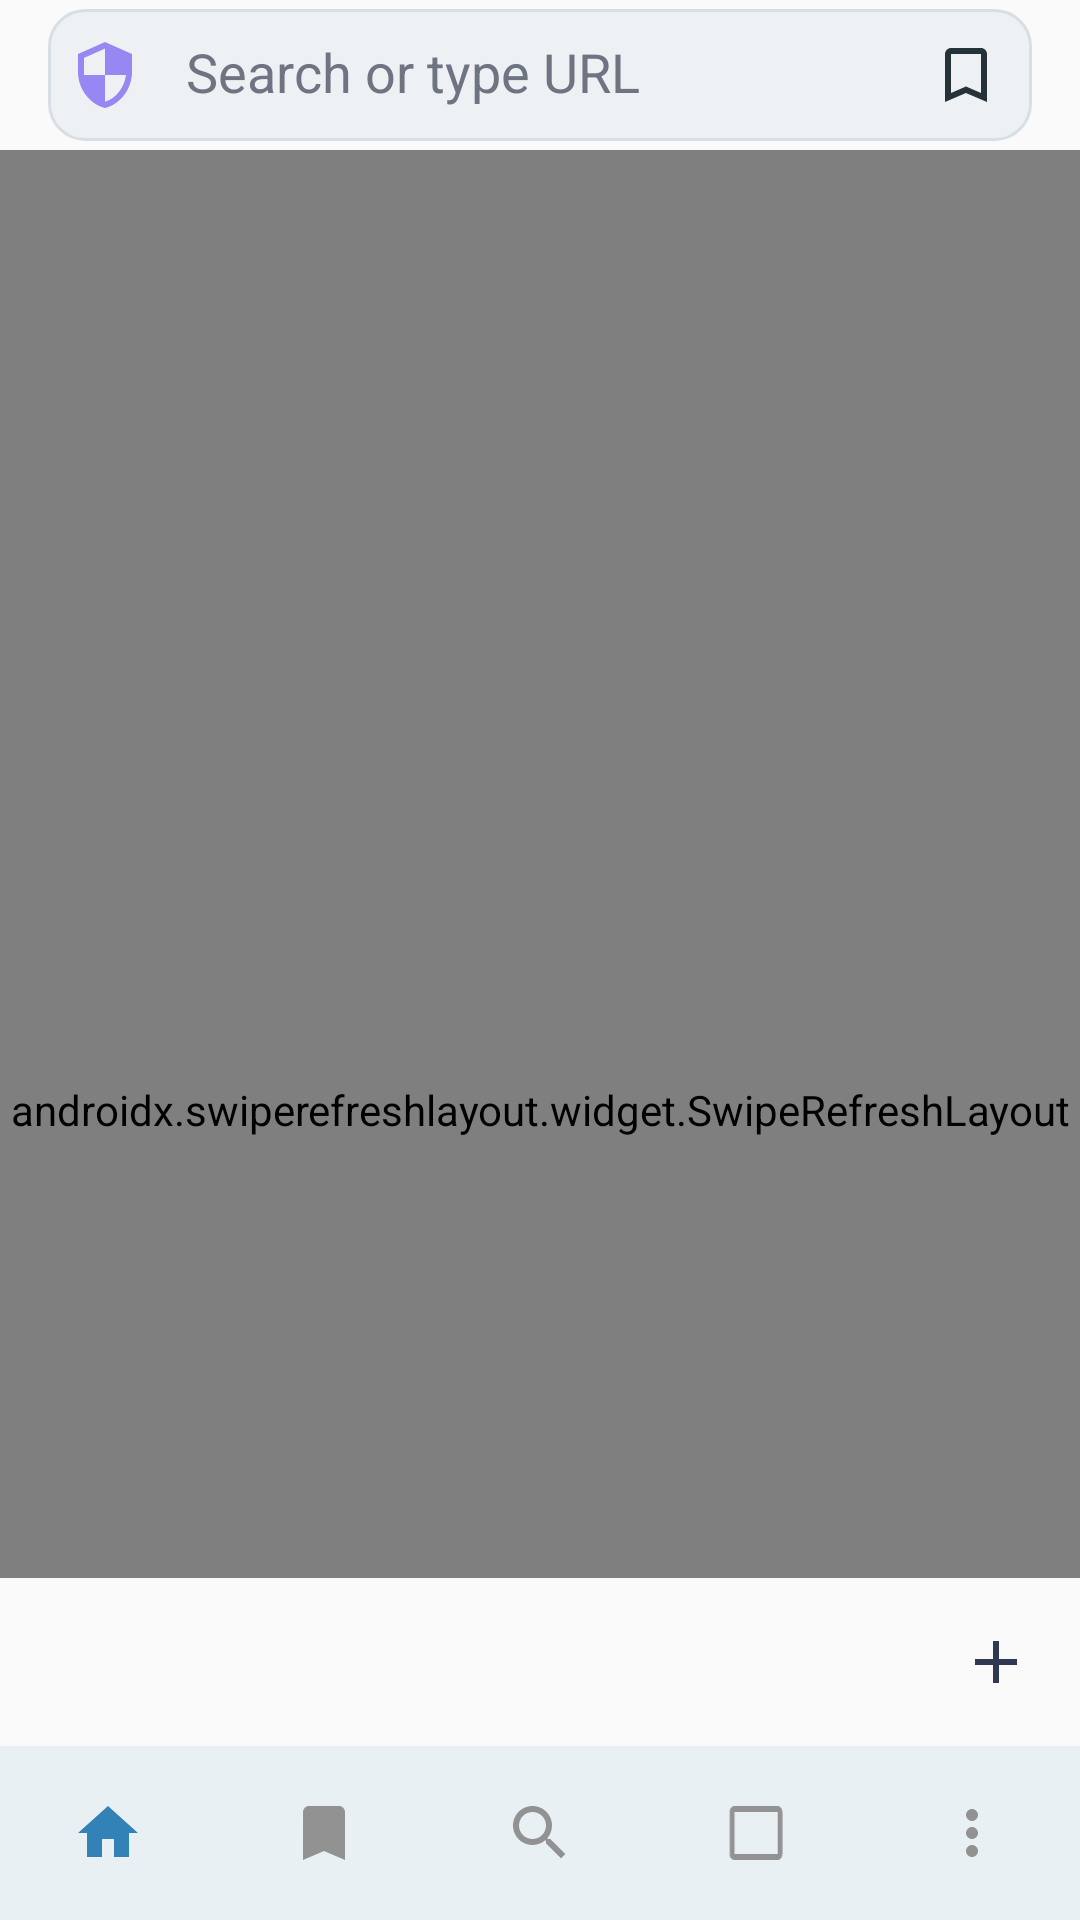

Where to tap for icons on this 1080px x 1920px app screen, as (x=x, y=y):
New Tab: (x=996, y=1662)
Security Information: (x=105, y=75)
